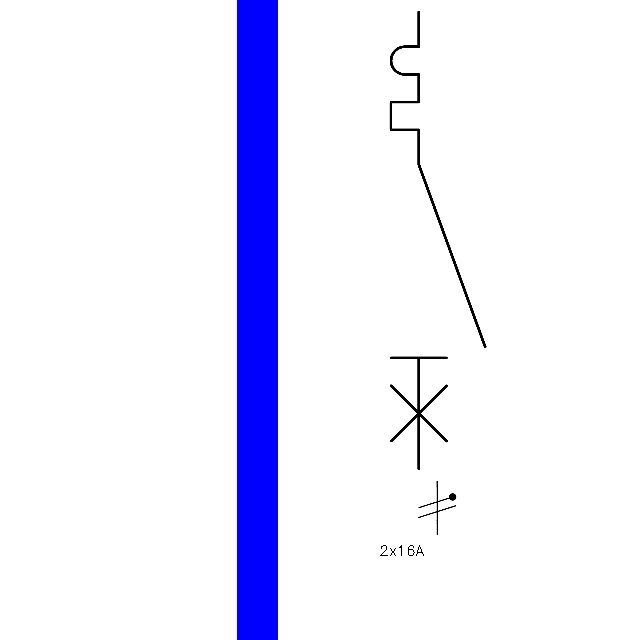interruptor_termomagnetico: (379, 0, 496, 481)
